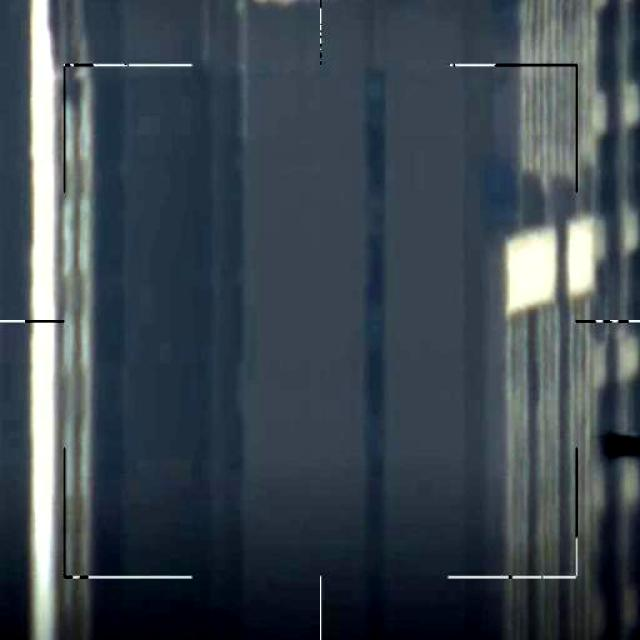bird: (600, 424, 640, 465)
